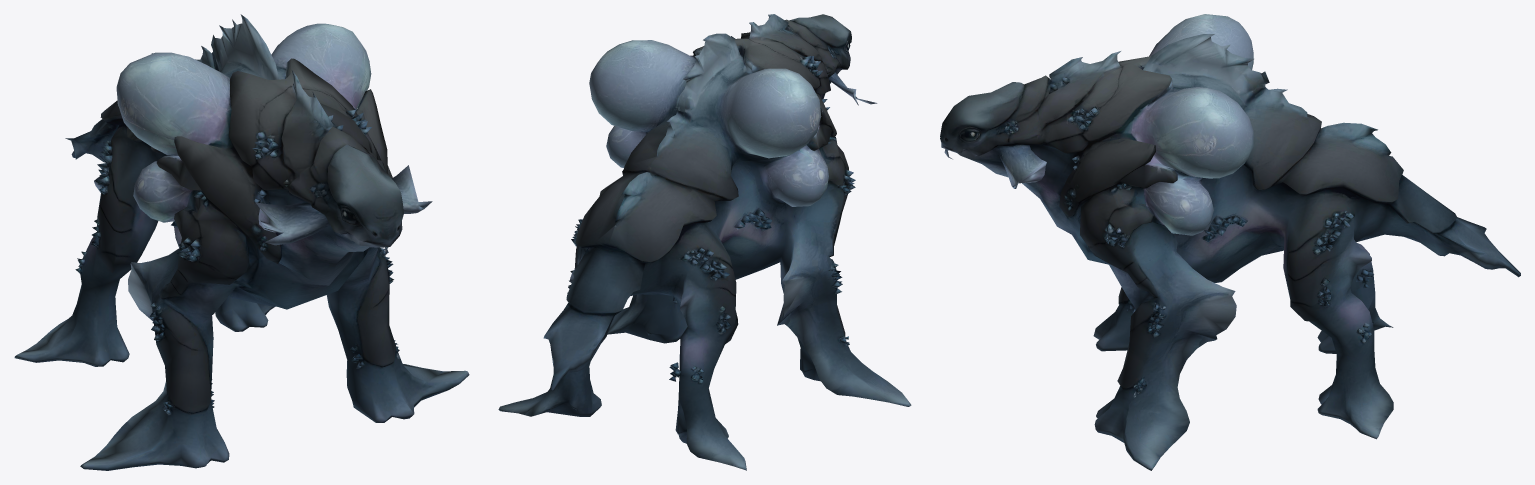
The model's file is starter.glb.
3 views of the same model, side by side, from view 1: azimuth 30°, elevation 25°; view 2: azimuth 150°, elevation 25°; view 3: azimuth 270°, elevation 25° (orthographic). The views are drawn at different scales.
Parts seen in each view (by area): view 1: tripo_node_921073cd-d1d0-4dc5-afb7-21197f7834c0; view 2: tripo_node_921073cd-d1d0-4dc5-afb7-21197f7834c0; view 3: tripo_node_921073cd-d1d0-4dc5-afb7-21197f7834c0.
Part boxes in pixels (x1,y1,x2,y2): tripo_node_921073cd-d1d0-4dc5-afb7-21197f7834c0: (14, 14, 469, 470); tripo_node_921073cd-d1d0-4dc5-afb7-21197f7834c0: (498, 14, 911, 470); tripo_node_921073cd-d1d0-4dc5-afb7-21197f7834c0: (940, 14, 1520, 470).
Bounding box in the file's own units: 0.7051 × 0.666 × 0.998.
1 material, 1 textured.
